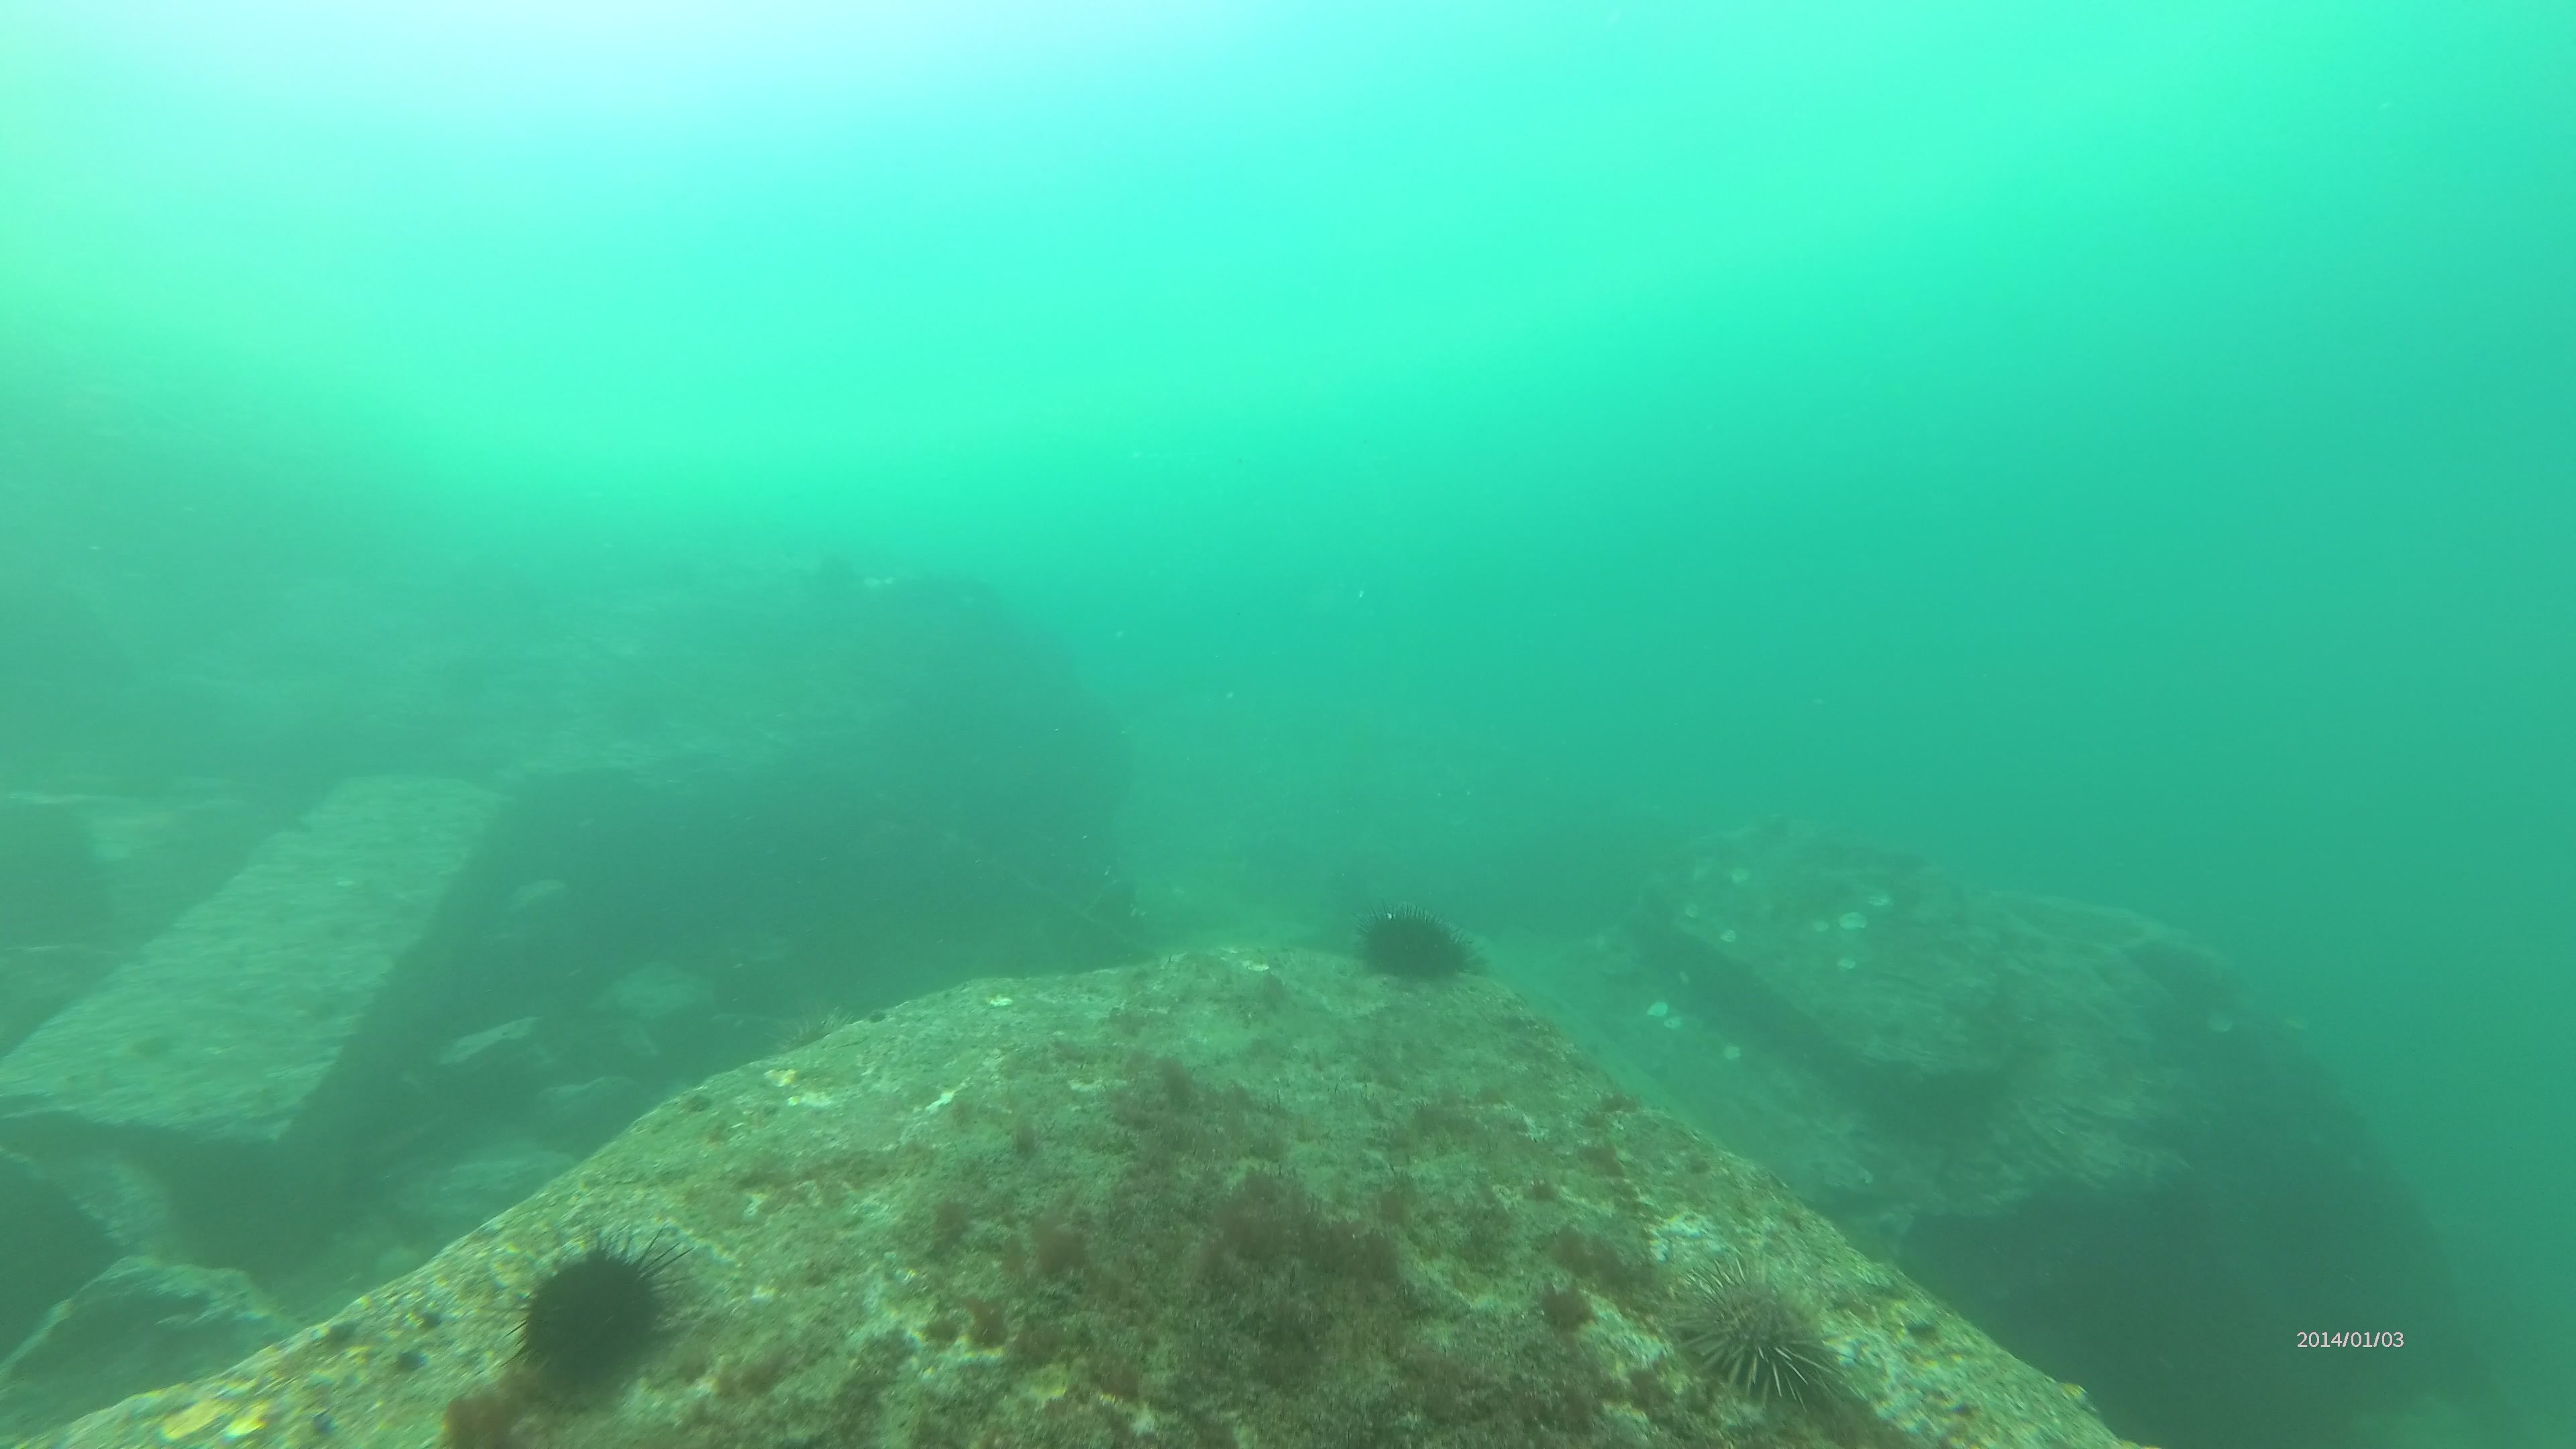echinus: (1668, 1231, 1859, 1412), (492, 1228, 685, 1398), (1348, 899, 1491, 1003)
